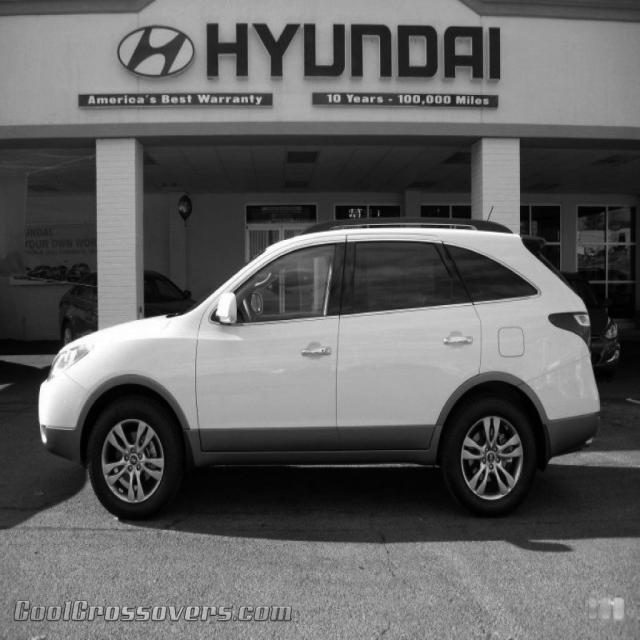car: (38, 215, 600, 520), (57, 268, 197, 348)
